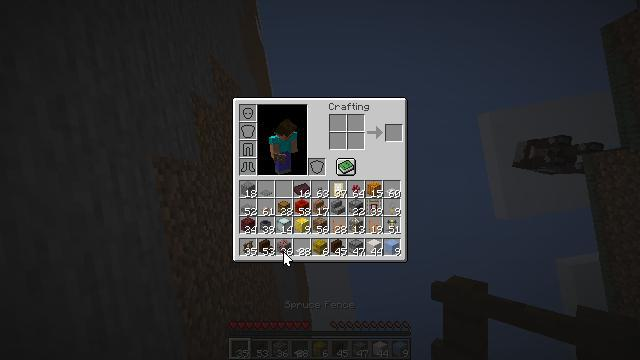cursor: (251, 283, 267, 293)
